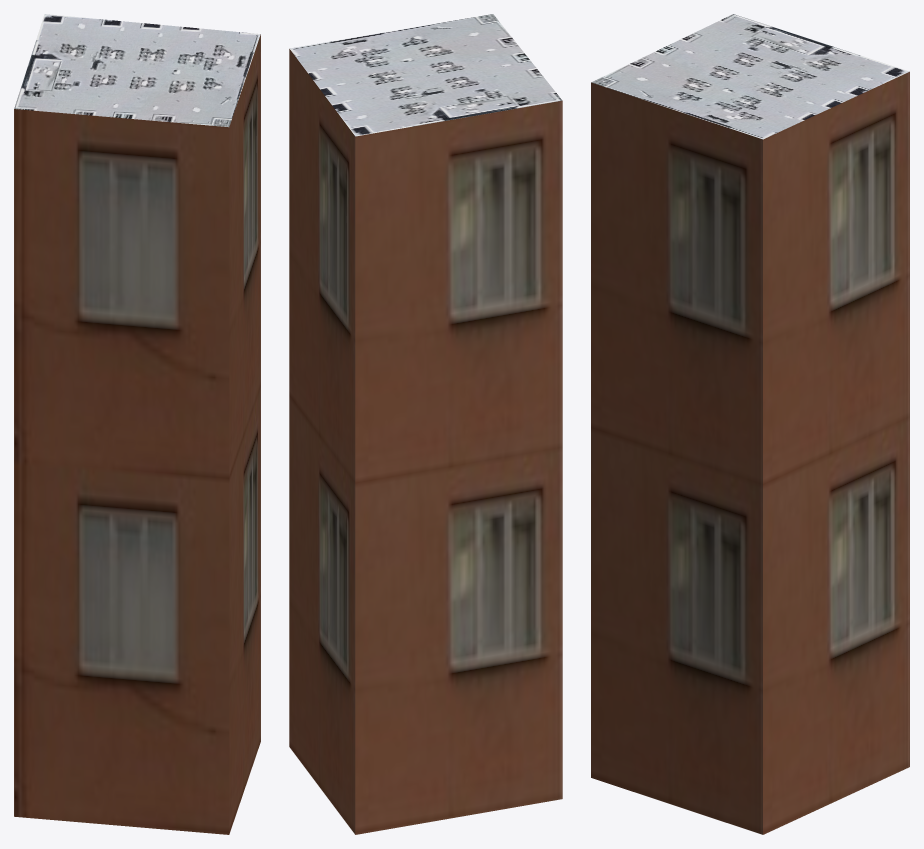
The model's file is ResTex__1669.fbx.
3 renders of one model, left to right at view 1: azimuth 30°, elevation 25°; view 2: azimuth 150°, elevation 25°; view 3: azimuth 270°, elevation 25°, orthographic.
Visible parts, largest first — view 1: CityEngineMaterial_20_m, CityEngineMaterial_2_m; view 2: CityEngineMaterial_20_m, CityEngineMaterial_2_m; view 3: CityEngineMaterial_20_m, CityEngineMaterial_2_m.
Part boxes in pixels (left/top/right/bottom): CityEngineMaterial_20_m: left=14, top=34, right=260, bottom=834; CityEngineMaterial_2_m: left=14, top=14, right=260, bottom=127; CityEngineMaterial_20_m: left=289, top=49, right=562, bottom=834; CityEngineMaterial_2_m: left=289, top=14, right=562, bottom=136; CityEngineMaterial_20_m: left=591, top=71, right=909, bottom=834; CityEngineMaterial_2_m: left=591, top=14, right=909, bottom=139.
Size of the model in its own units: 2.32 by 6 by 2.49.
Materials: 2 (2 with a texture image).
